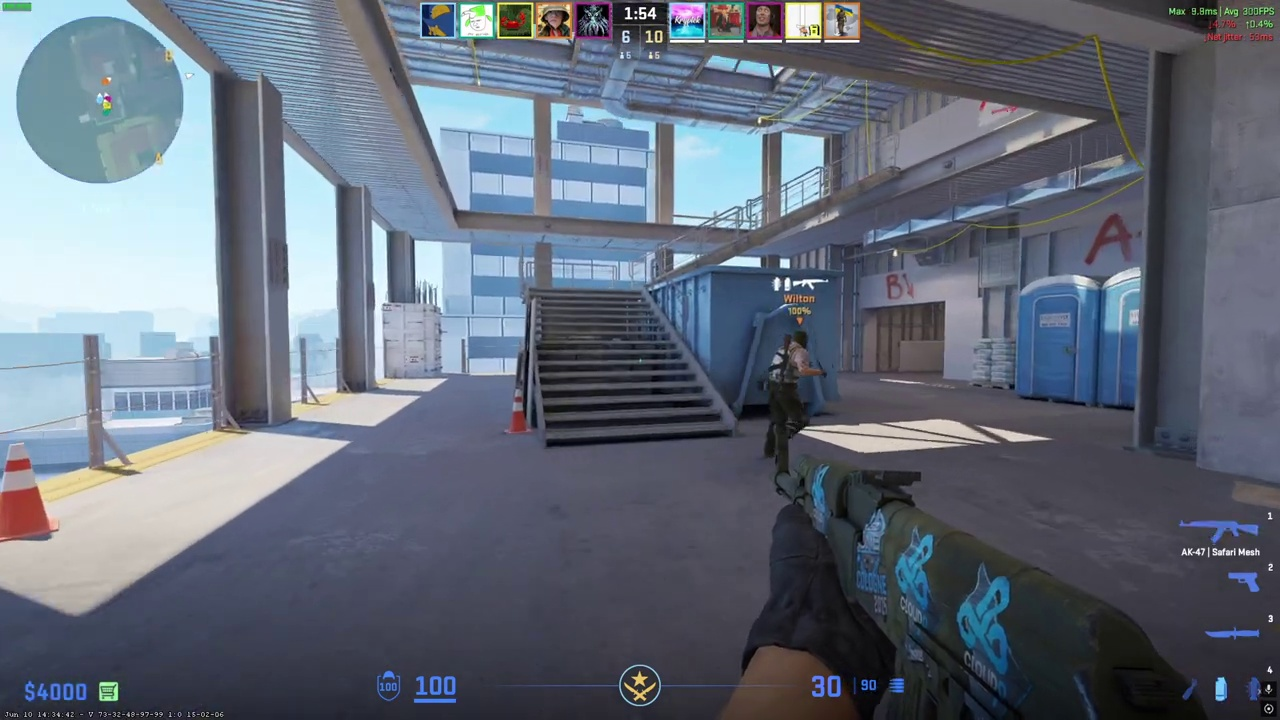Terrorist: (762, 330, 815, 474)
